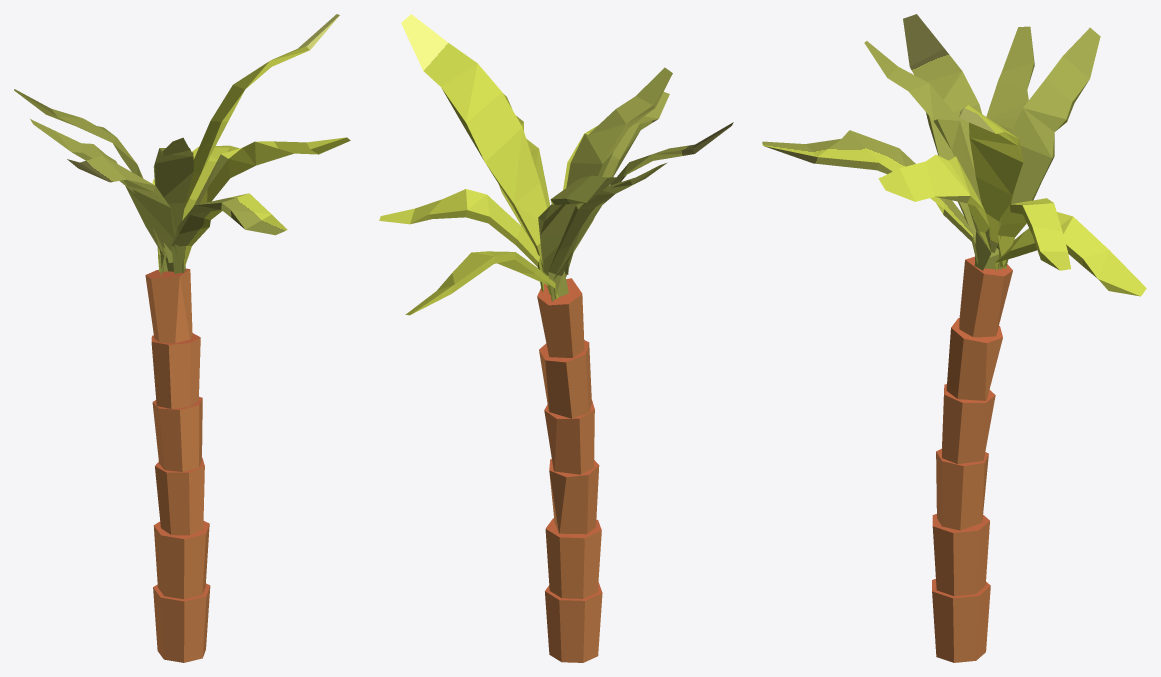
The model's file is Palm Tree 3 Low.fbx.
3 renders of one model, left to right at view 1: azimuth 30°, elevation 25°; view 2: azimuth 150°, elevation 25°; view 3: azimuth 270°, elevation 25°, orthographic. The views are drawn at different scales.
Parts seen in each view (by area): view 1: Tree-3; view 2: Tree-3; view 3: Tree-3.
Boxes of the visible parts, x1=… form: Tree-3: x1=14, y1=14, x2=350, y2=662; Tree-3: x1=379, y1=14, x2=733, y2=662; Tree-3: x1=762, y1=14, x2=1146, y2=662.
Bounding box in the file's own units: 144 × 275 × 153.
